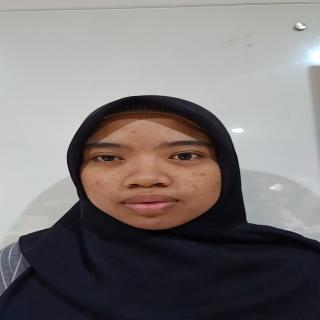Netral: (78, 104, 232, 236)
